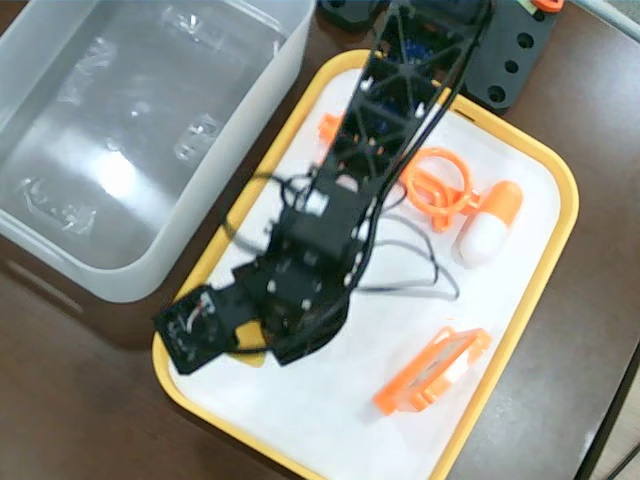pill: (457, 181, 523, 264)
